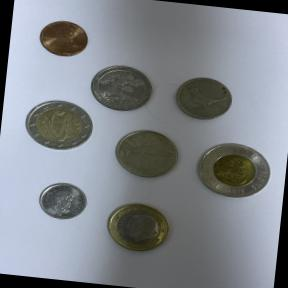1 Euro-B: (95, 192, 181, 259)
2 Euro-B: (16, 96, 98, 160)
Canada-10cent-B: (32, 176, 94, 228)
Canada-2Dollar-B: (186, 132, 281, 209)
Croatia-2Kune-B: (104, 119, 188, 186)
US-1cent-B: (28, 12, 98, 68)
US-25cent-B: (85, 59, 161, 118)
